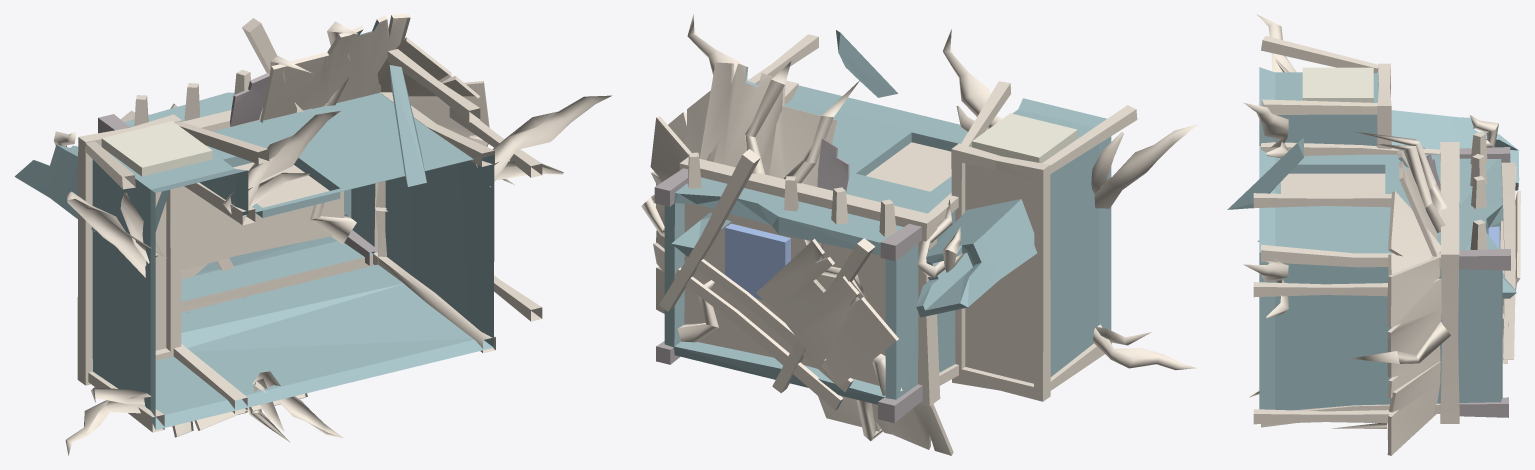
3 views of the same model, side by side, from view 1: azimuth 30°, elevation 25°; view 2: azimuth 150°, elevation 25°; view 3: azimuth 270°, elevation 25° (orthographic). The views are drawn at different scales.
Visible parts, largest first — view 1: Object02; view 2: Object02; view 3: Object02.
Boxes of the visible parts, box(x1,y1,x2,y2) form: Object02: box(14, 14, 611, 455); Object02: box(641, 14, 1198, 455); Object02: box(1227, 14, 1520, 455).
Size of the model in its own units: 82681 by 54262 by 44238.
